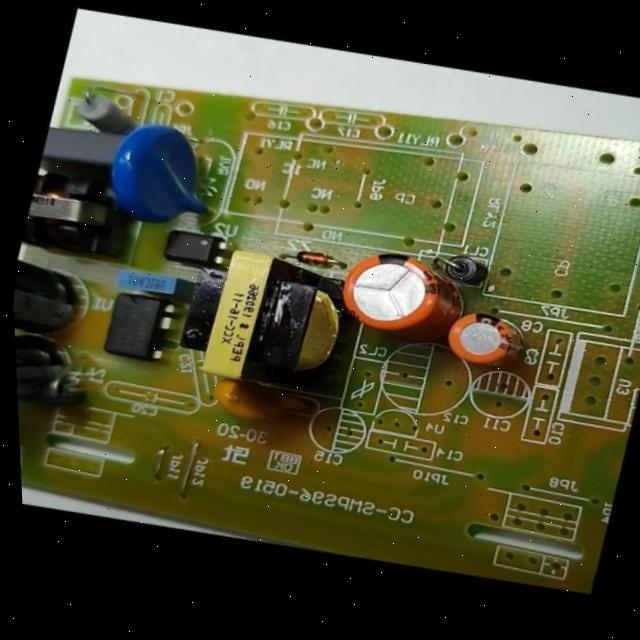Cap1: (322, 233, 480, 355)
Cap2: (437, 299, 535, 378)
Cap3: (11, 242, 106, 348)
Cap4: (15, 334, 75, 426)
MOSFET: (87, 277, 195, 374)
Mov: (89, 102, 240, 239)
Resistor: (59, 77, 144, 140)
Transformer: (158, 223, 383, 414), (15, 156, 153, 278)
